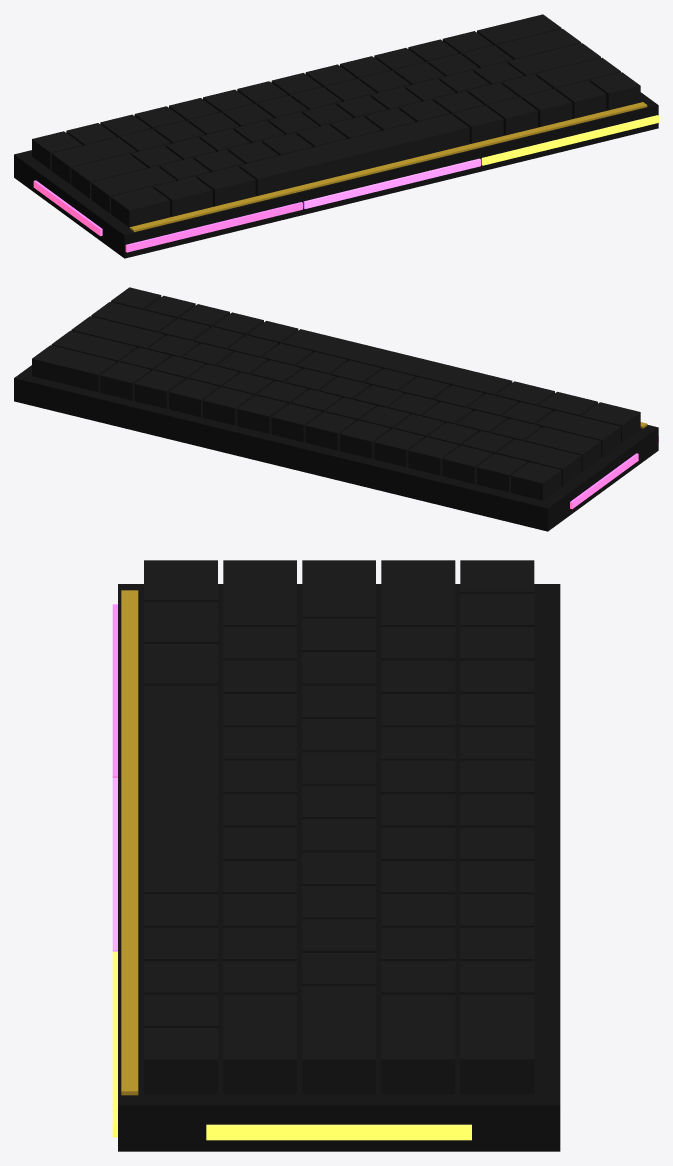
File: 07-keyboard-65-black-rgb.glb
3 renders of one model, top to bottom at view 1: azimuth 30°, elevation 25°; view 2: azimuth 150°, elevation 25°; view 3: azimuth 270°, elevation 25°, orthographic. The views are drawn at different scales.
Size of the model in its own units: 0.2911 by 0.021 by 0.1049.
